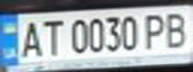0: (118, 12, 142, 52), (66, 16, 90, 54), (87, 15, 106, 54)
3: (103, 14, 124, 52)
A: (15, 18, 45, 58)
B: (160, 9, 193, 50)
P: (139, 10, 172, 51)
T: (36, 16, 66, 56)
